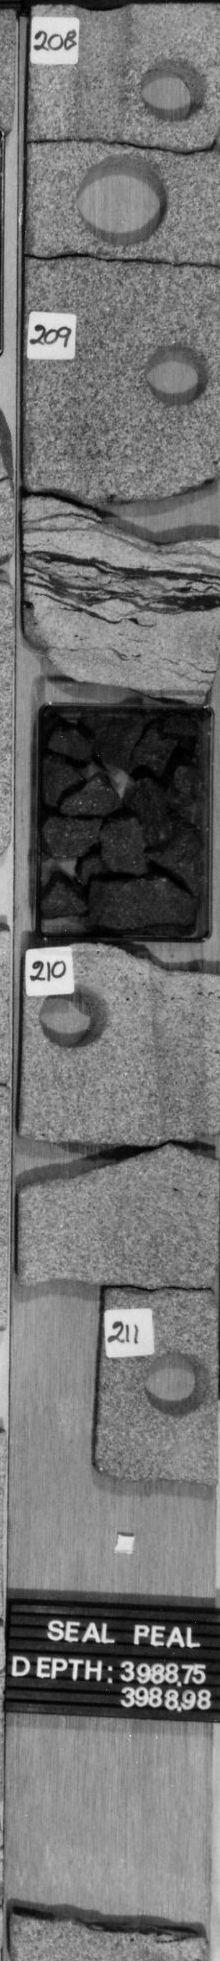hplug: (31, 975, 115, 1056), (137, 335, 220, 410), (139, 1343, 215, 1421), (137, 55, 207, 129)
scal: (65, 153, 177, 249)
vplug: (139, 959, 220, 1151), (61, 1, 135, 143)
